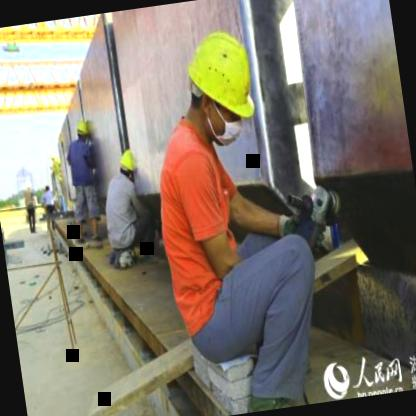helmet: (167, 14, 270, 156), (113, 144, 138, 180), (72, 118, 92, 146)
